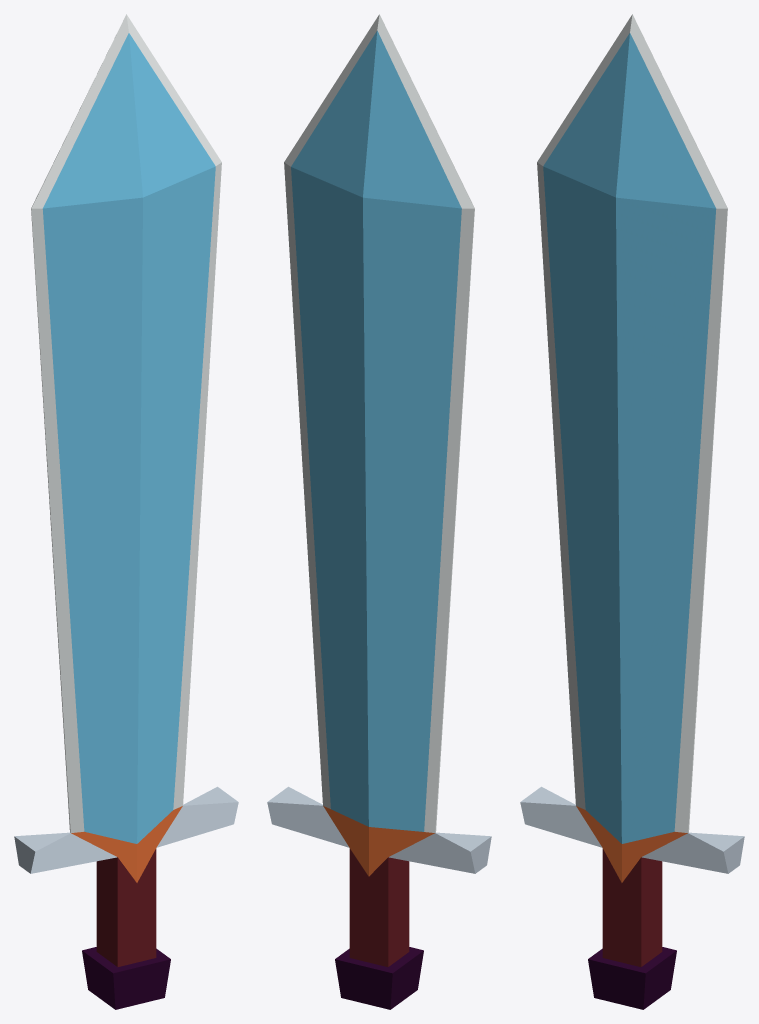
Rendered from beginner_sword.fbx.
3 renders of one model, left to right at view 1: azimuth 30°, elevation 25°; view 2: azimuth 150°, elevation 25°; view 3: azimuth 330°, elevation 25°, orthographic.
Parts seen in each view (by area): view 1: beginner_sword; view 2: beginner_sword; view 3: beginner_sword.
Boxes of the visible parts, left/top/right/bottom form: beginner_sword: left=14, top=14, right=238, bottom=1009; beginner_sword: left=267, top=14, right=491, bottom=1009; beginner_sword: left=520, top=14, right=744, bottom=1009.
Bounding box in the file's own units: 27.9 × 98.53 × 454.
